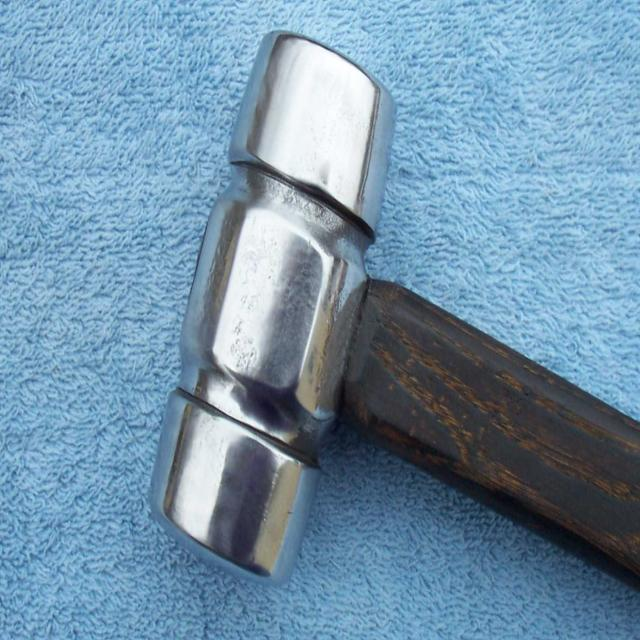hammer: (140, 14, 640, 577)
